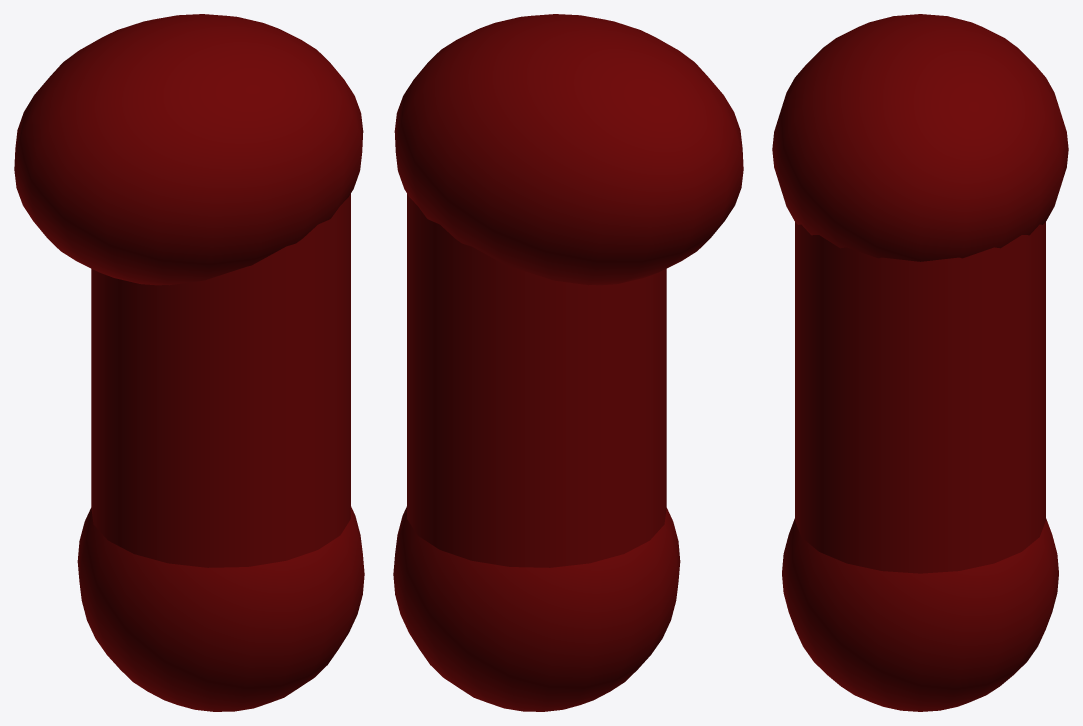
The model's file is ulefthand.obj.
3 views of the same model, side by side, from view 1: azimuth 30°, elevation 25°; view 2: azimuth 150°, elevation 25°; view 3: azimuth 270°, elevation 25° (orthographic). The views are drawn at different scales.
Parts seen in each view (by area): view 1: pSphere4; view 2: pSphere4; view 3: pSphere4.
Part boxes in pixels (x1,y1,x2,y2): pSphere4: (14, 14, 364, 711); pSphere4: (393, 14, 743, 711); pSphere4: (772, 14, 1068, 711).
Bounding box in the file's own units: 2.8 × 5.7 × 2.36.
